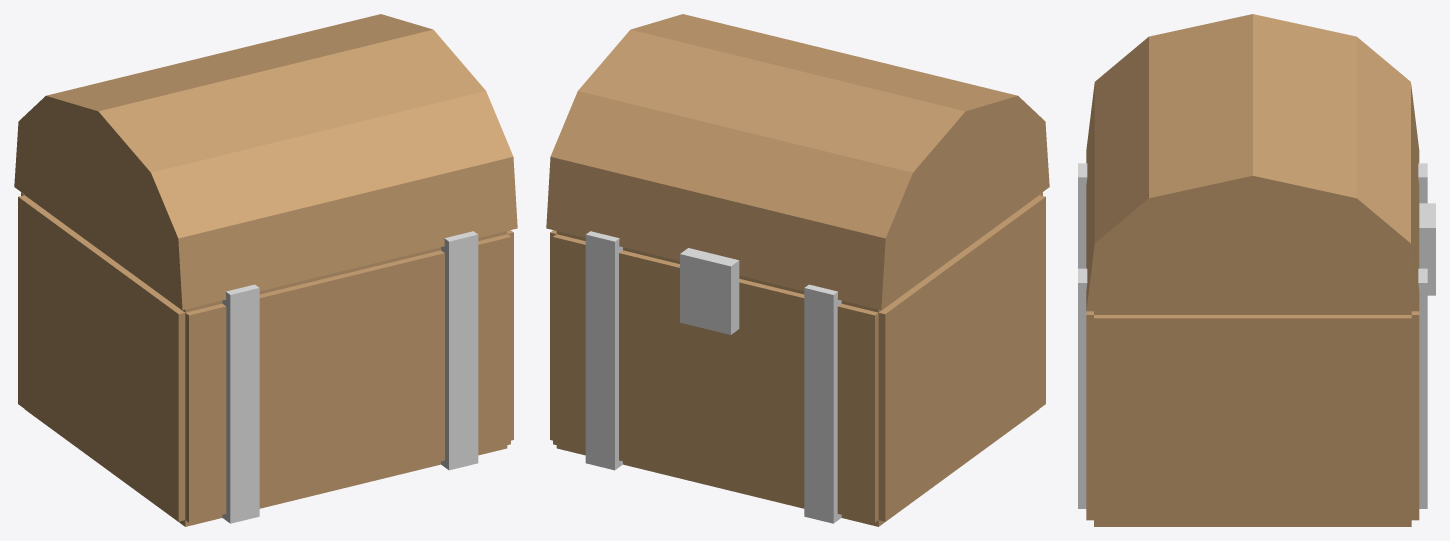
Rendered from palm_chest_v0.glb.
3 views of the same model, side by side, from view 1: azimuth 30°, elevation 25°; view 2: azimuth 150°, elevation 25°; view 3: azimuth 270°, elevation 25° (orthographic).
Visible parts, largest first — view 1: palm_chest_v0; view 2: palm_chest_v0; view 3: palm_chest_v0.
Boxes of the visible parts, x1=… form: palm_chest_v0: x1=14, y1=14, x2=517, y2=526; palm_chest_v0: x1=546, y1=14, x2=1049, y2=526; palm_chest_v0: x1=1078, y1=14, x2=1435, y2=526.
Size of the model in its own units: 0.92 by 0.94 by 0.86.
